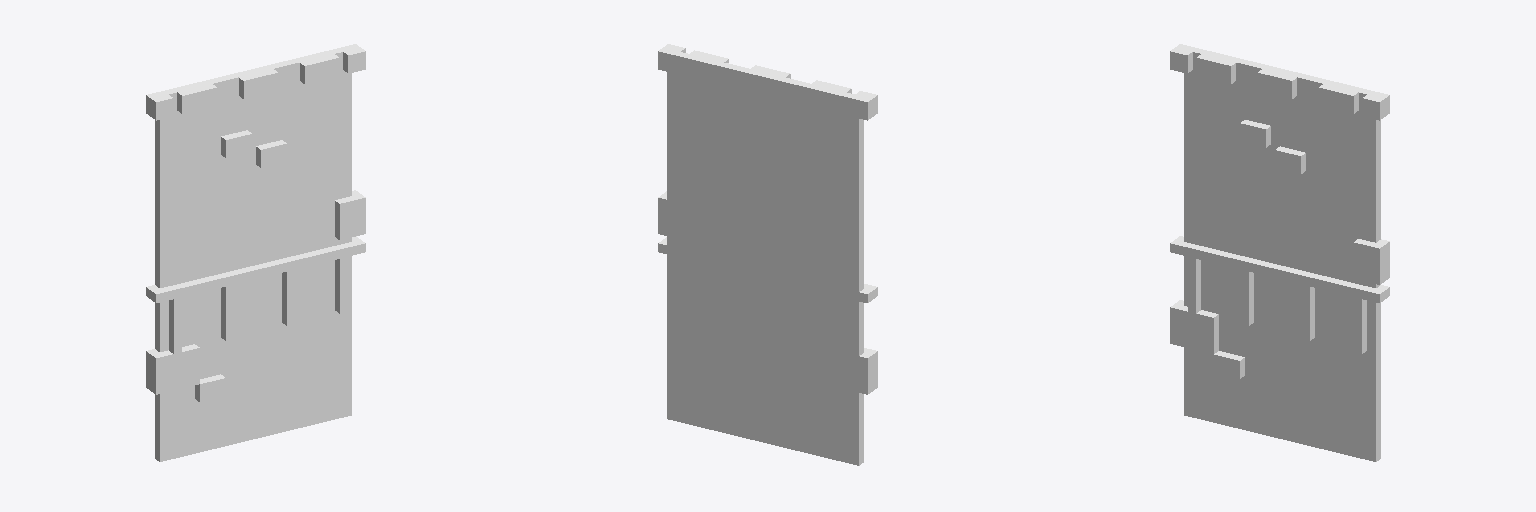
File: TallBuilding02-8.obj
3 renders of one model, left to right at view 1: azimuth 30°, elevation 25°; view 2: azimuth 150°, elevation 25°; view 3: azimuth 330°, elevation 25°, orthographic.
Parts seen in each view (by area): view 1: object 1; view 2: object 1; view 3: object 1.
Boxes of the visible parts, x1,y1,x2,y2 form: object 1: [146, 44, 365, 461]; object 1: [658, 44, 877, 465]; object 1: [1170, 44, 1389, 461].
Size of the model in its own units: 2.4 by 4 by 0.2.